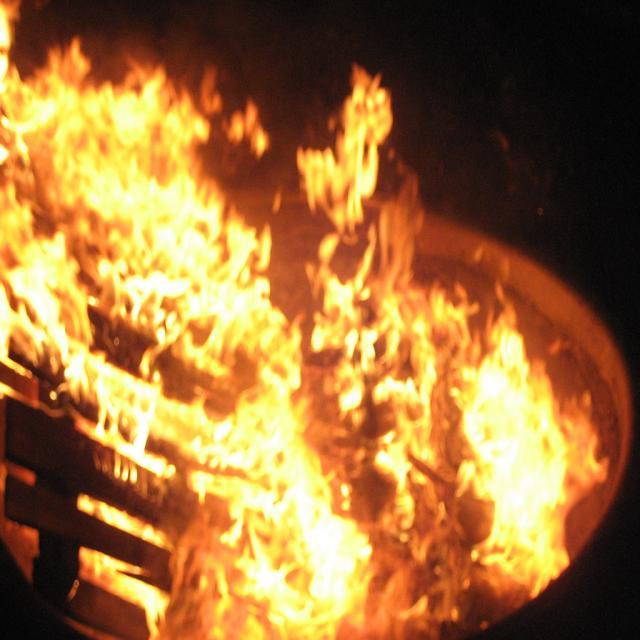Fire: (85, 154, 224, 308), (230, 436, 318, 614), (484, 386, 555, 562)
